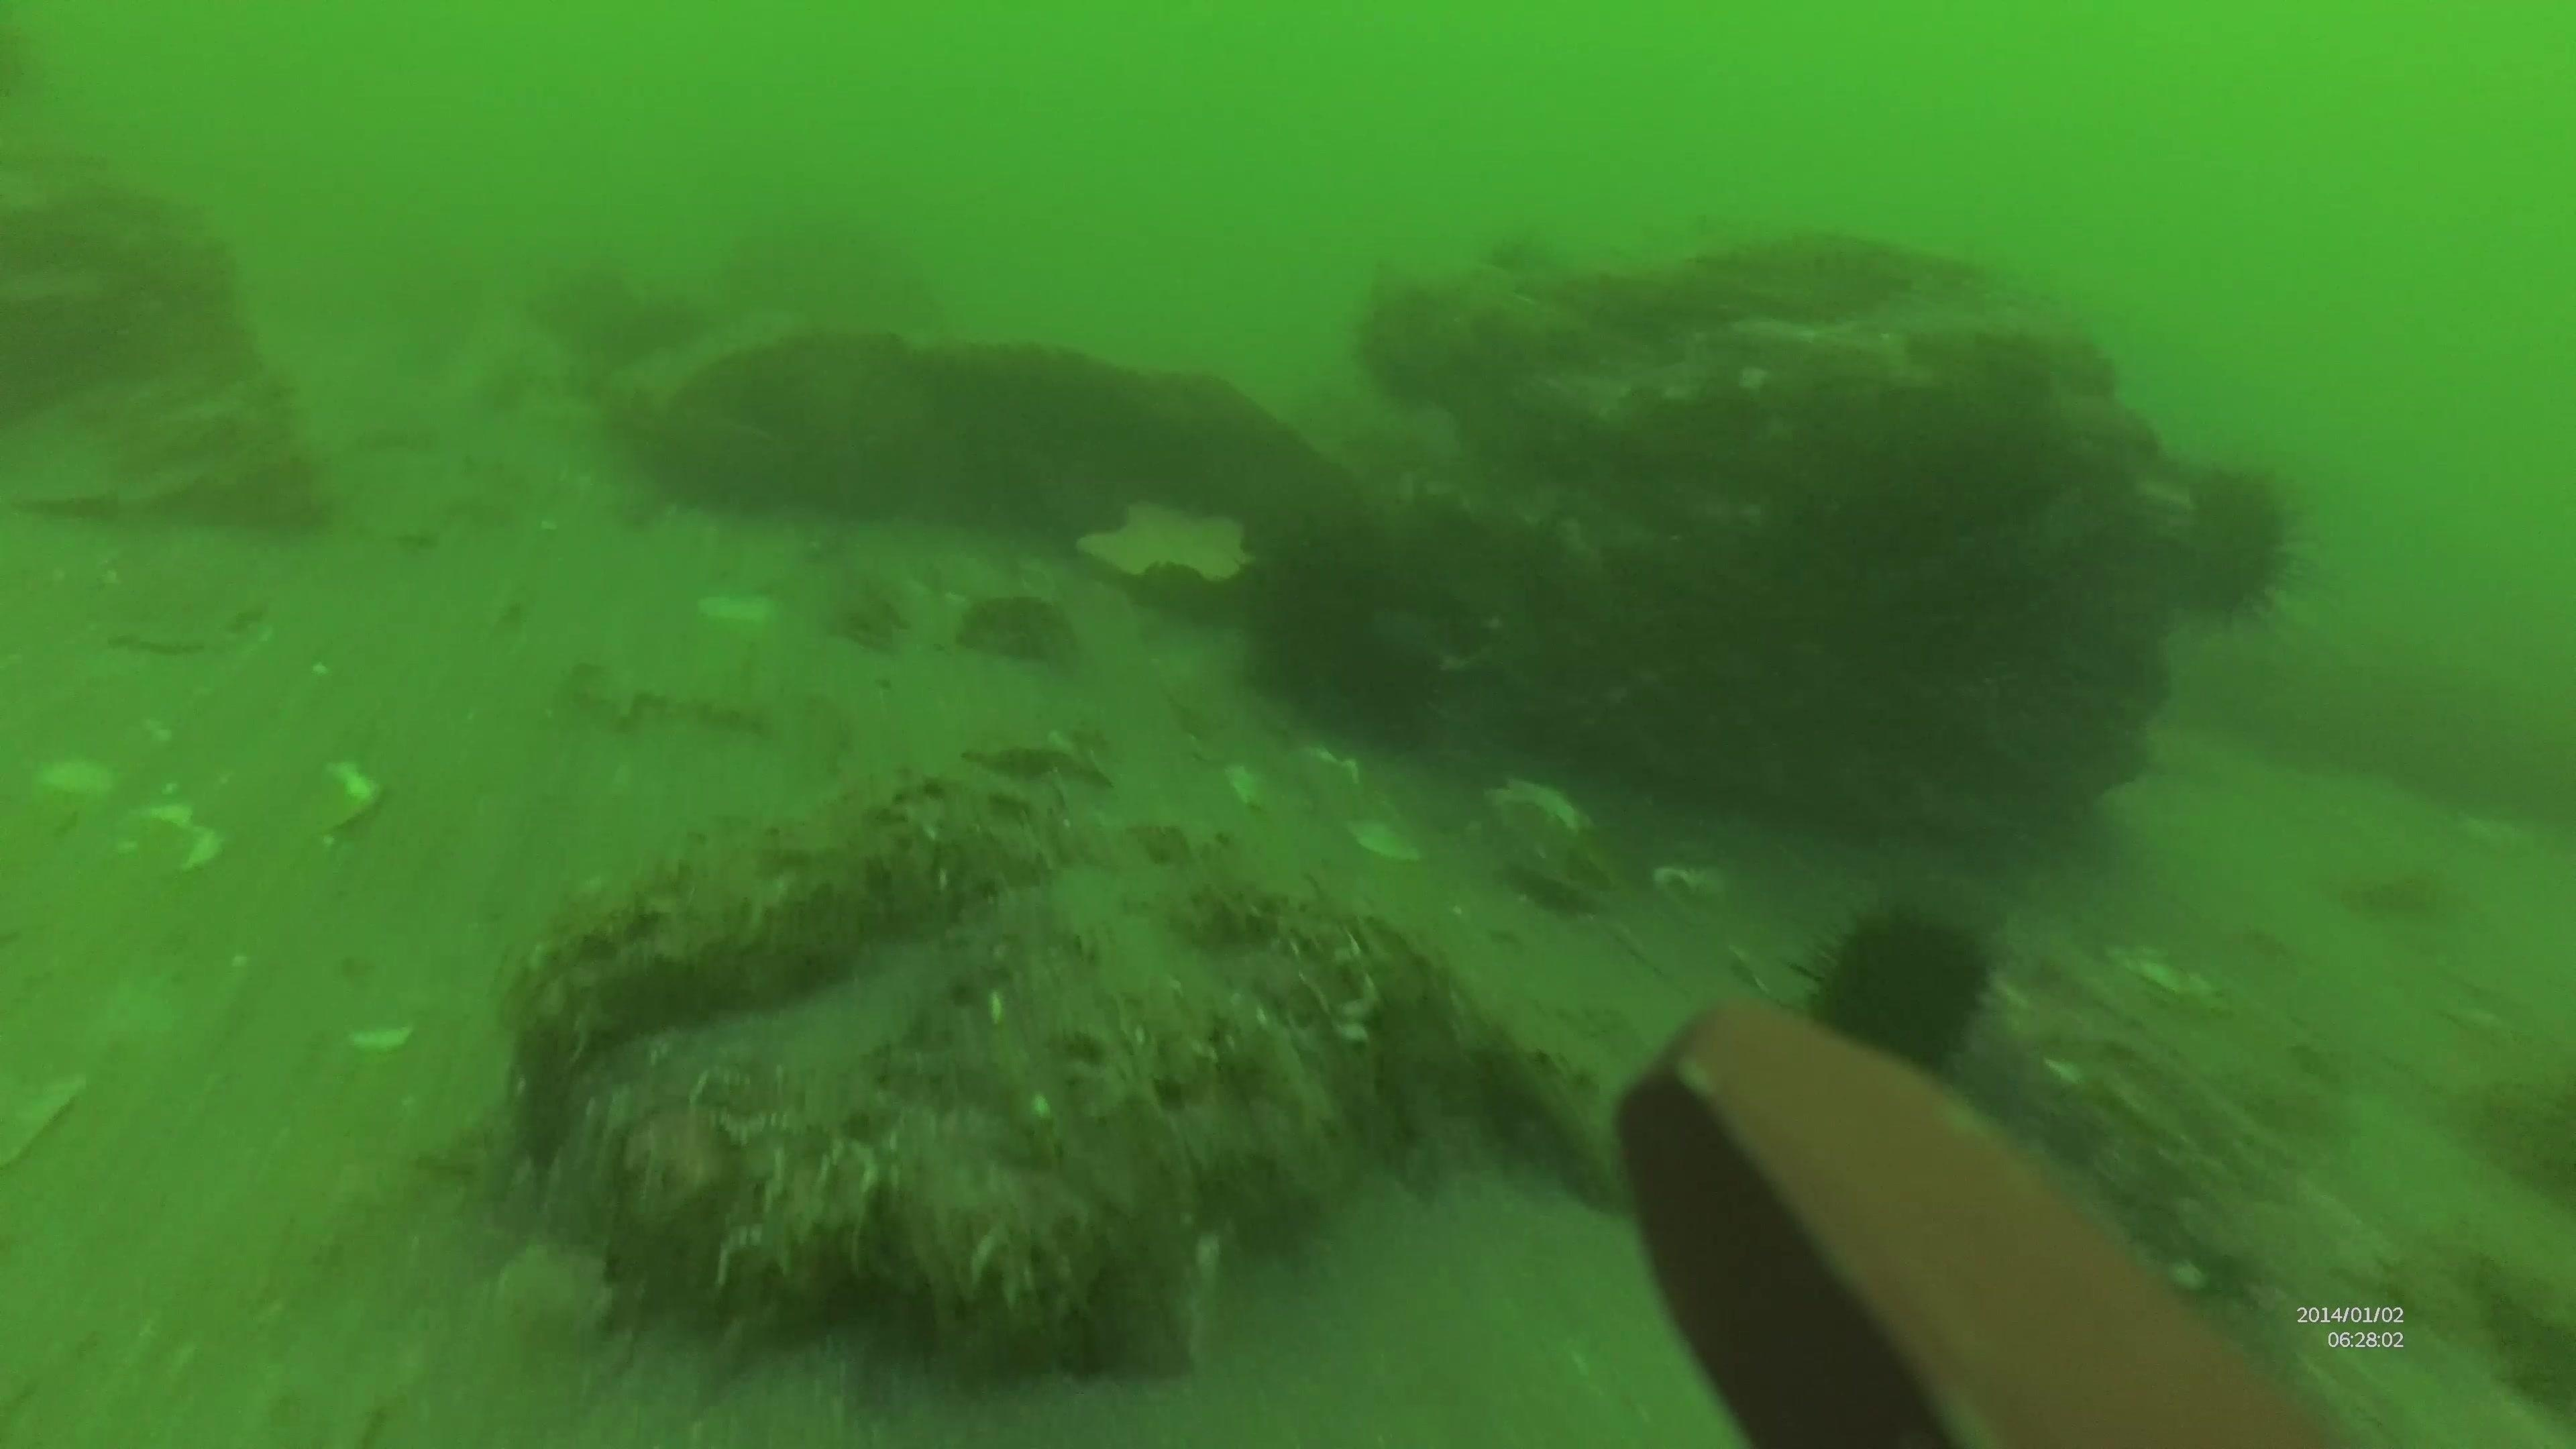echinus: (1794, 897, 2001, 1077), (2150, 455, 2312, 630)
starfish: (1072, 492, 1260, 596)
